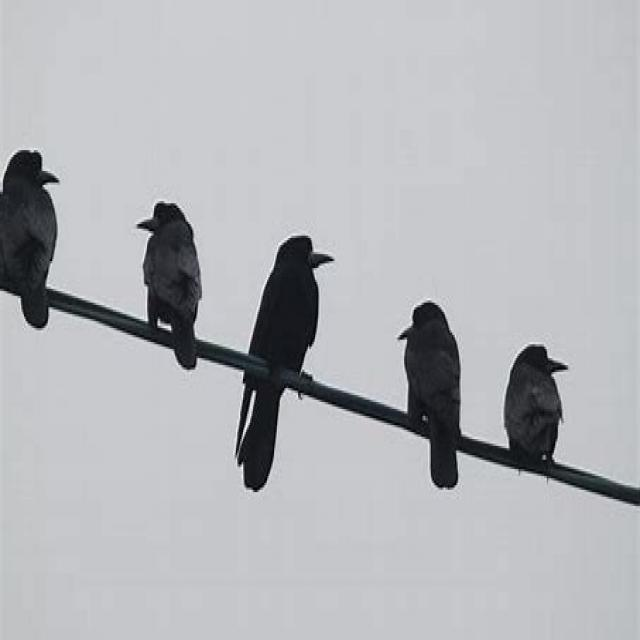crow: (242, 232, 336, 501), (399, 298, 471, 486), (134, 201, 209, 378), (0, 148, 62, 327), (506, 338, 572, 464)
